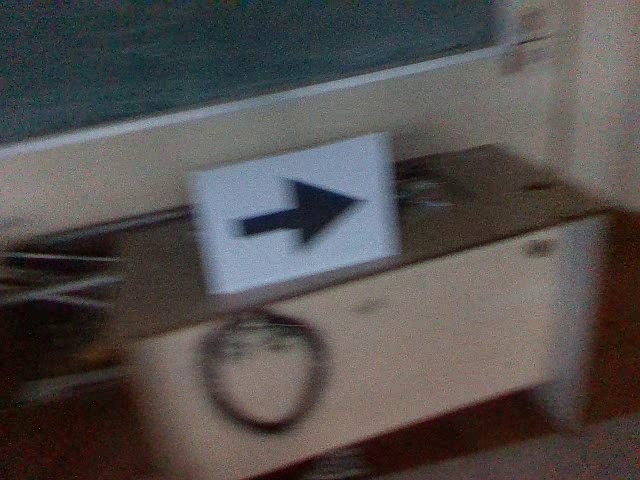Right: (219, 172, 373, 259)
